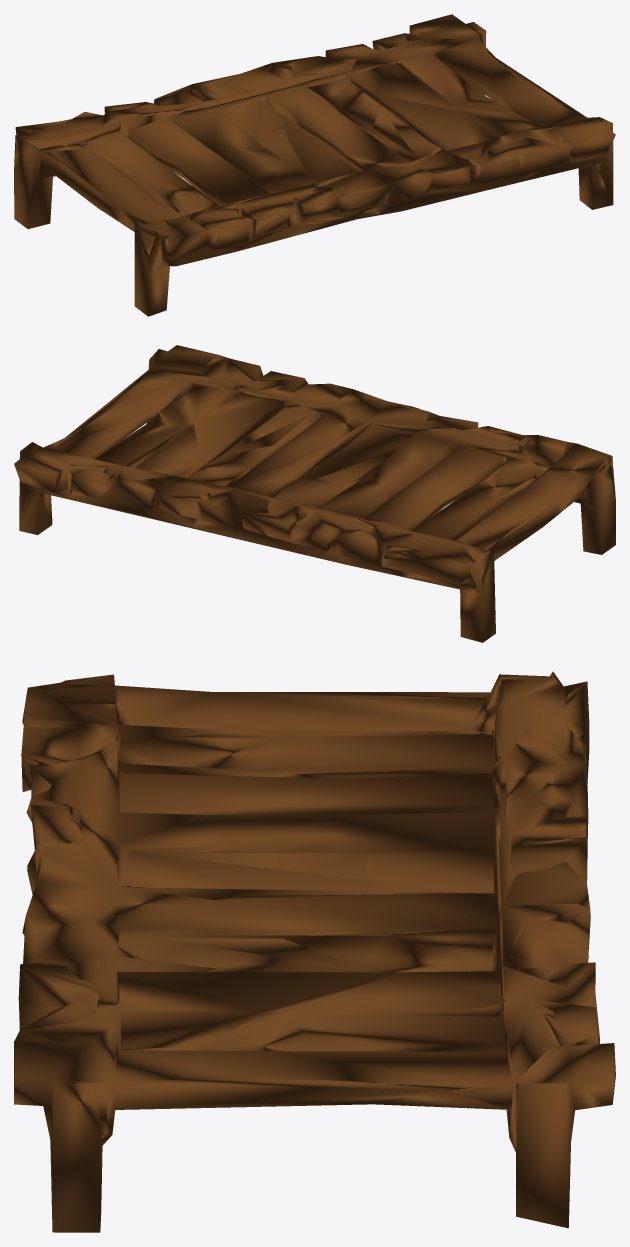
File: gen3d-wooden-pier-lod1.glb
3 renders of one model, top to bottom at view 1: azimuth 30°, elevation 25°; view 2: azimuth 150°, elevation 25°; view 3: azimuth 270°, elevation 25°, orthographic. The views are drawn at different scales.
Visible parts, largest first — view 1: part_0; view 2: part_0; view 3: part_0.
Part boxes in pixels (x1,y1,x2,y2): part_0: [14, 14, 615, 316]; part_0: [14, 345, 615, 642]; part_0: [14, 671, 615, 1232].
Size of the model in its own units: 5.72 by 0.9919 by 3.52.
